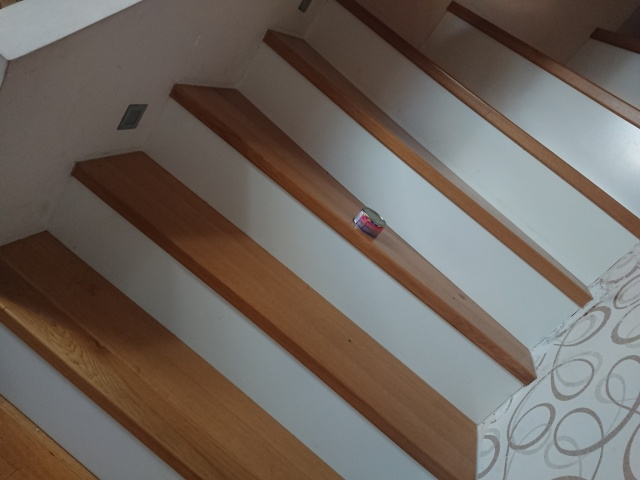Giana Tuna Salad Mexico 185g: (352, 206, 388, 239)
